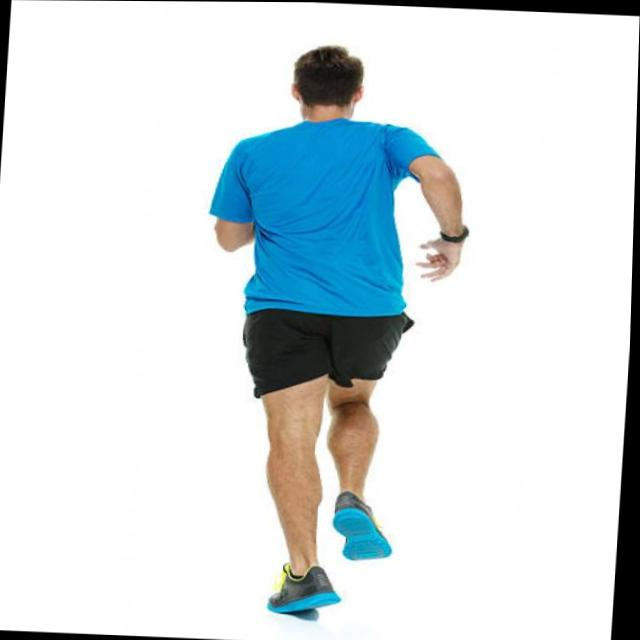no helmet: (267, 37, 389, 139)
